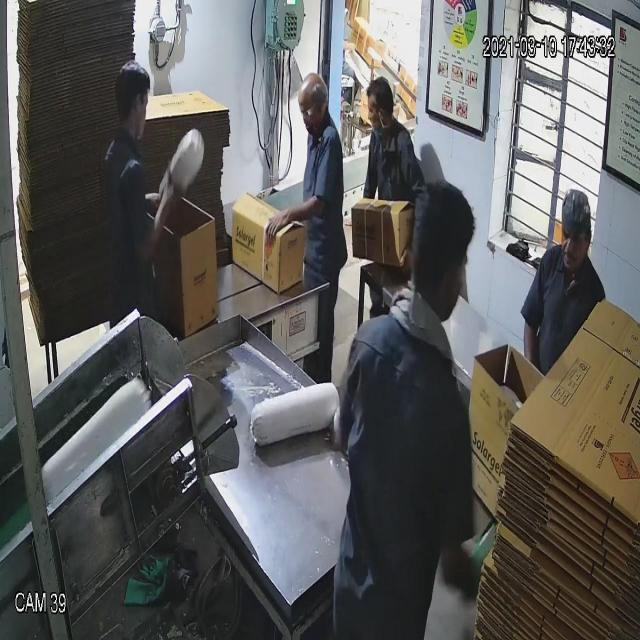No_Gloves: (60, 54, 298, 220)
